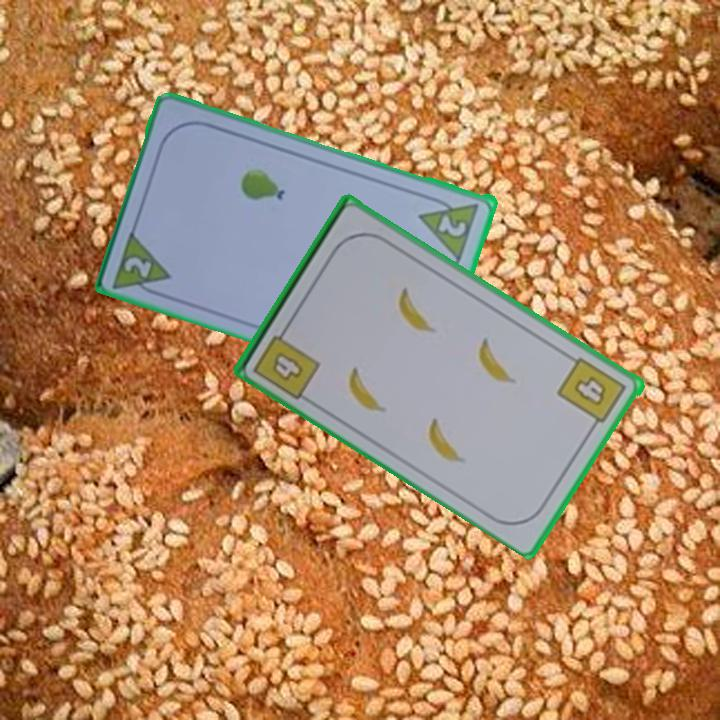2p: (109, 225, 176, 301), (435, 210, 470, 240)
4b: (554, 353, 630, 433), (269, 347, 307, 384)
